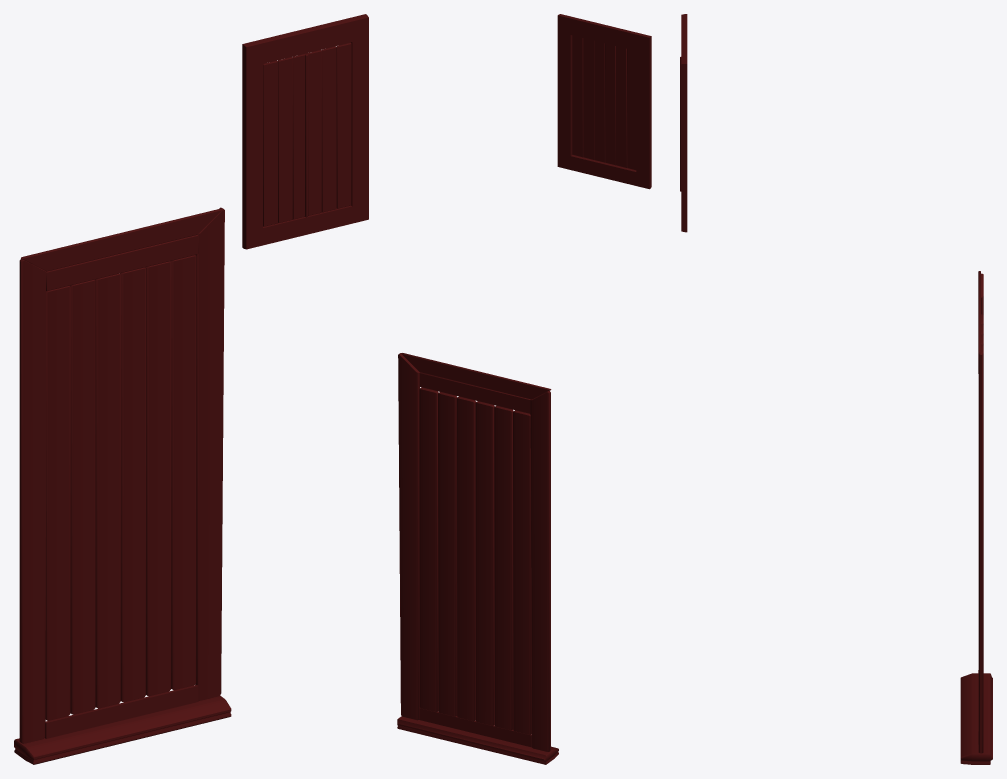
Rendered from FairyTale251.gltf.
3 views of the same model, side by side, from view 1: azimuth 30°, elevation 25°; view 2: azimuth 150°, elevation 25°; view 3: azimuth 270°, elevation 25° (orthographic). The views are drawn at different scales.
Parts seen in each view (by area): view 1: HouseCabin_WoodDark; view 2: HouseCabin_WoodDark; view 3: HouseCabin_WoodDark.
Boxes of the visible parts, x1,y1,x2,y2 form: HouseCabin_WoodDark: (14, 14, 368, 764); HouseCabin_WoodDark: (397, 14, 651, 764); HouseCabin_WoodDark: (680, 14, 992, 764).
Bounding box in the file's own units: 1.03 × 4.02 × 1.66.
